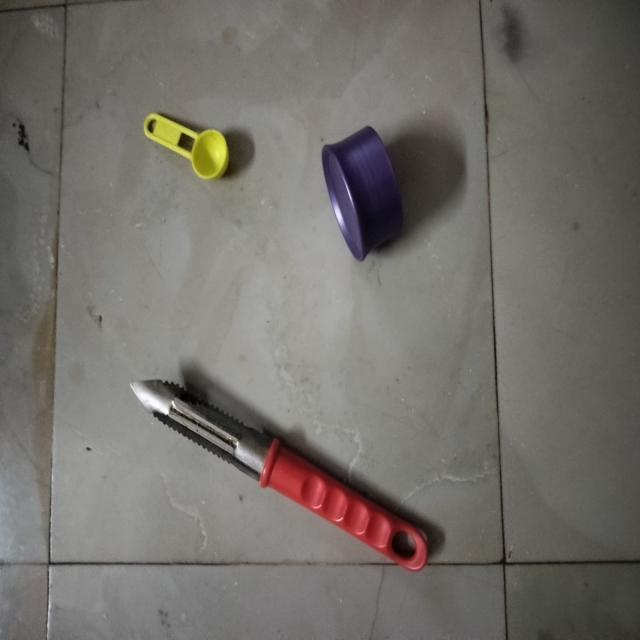metal: (125, 356, 265, 514)
plastic: (309, 106, 409, 280), (134, 88, 241, 201)
